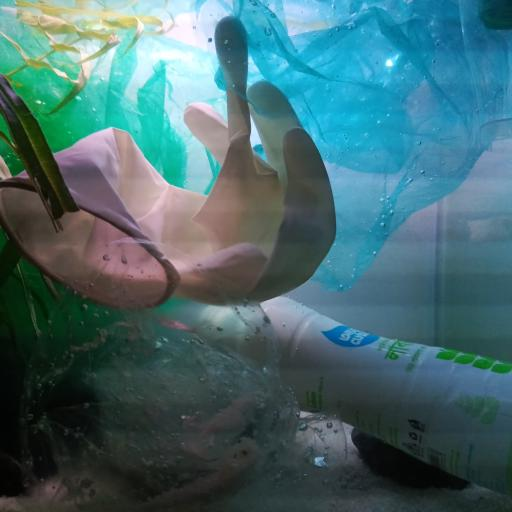bottle_cap: (477, 0, 512, 29)
glove: (0, 16, 337, 314)
plastic_bag: (194, 0, 512, 291), (16, 236, 348, 512), (0, 12, 217, 341)
plastic_bottle: (200, 295, 512, 495)
